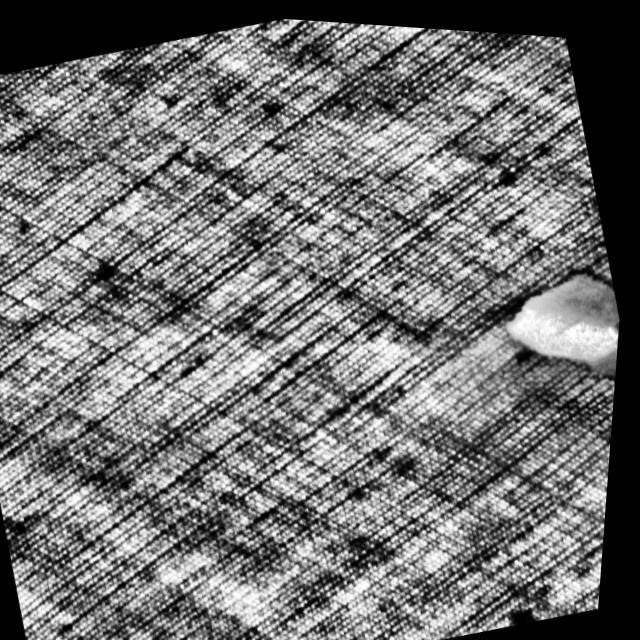Stitch: (488, 246, 627, 409)
